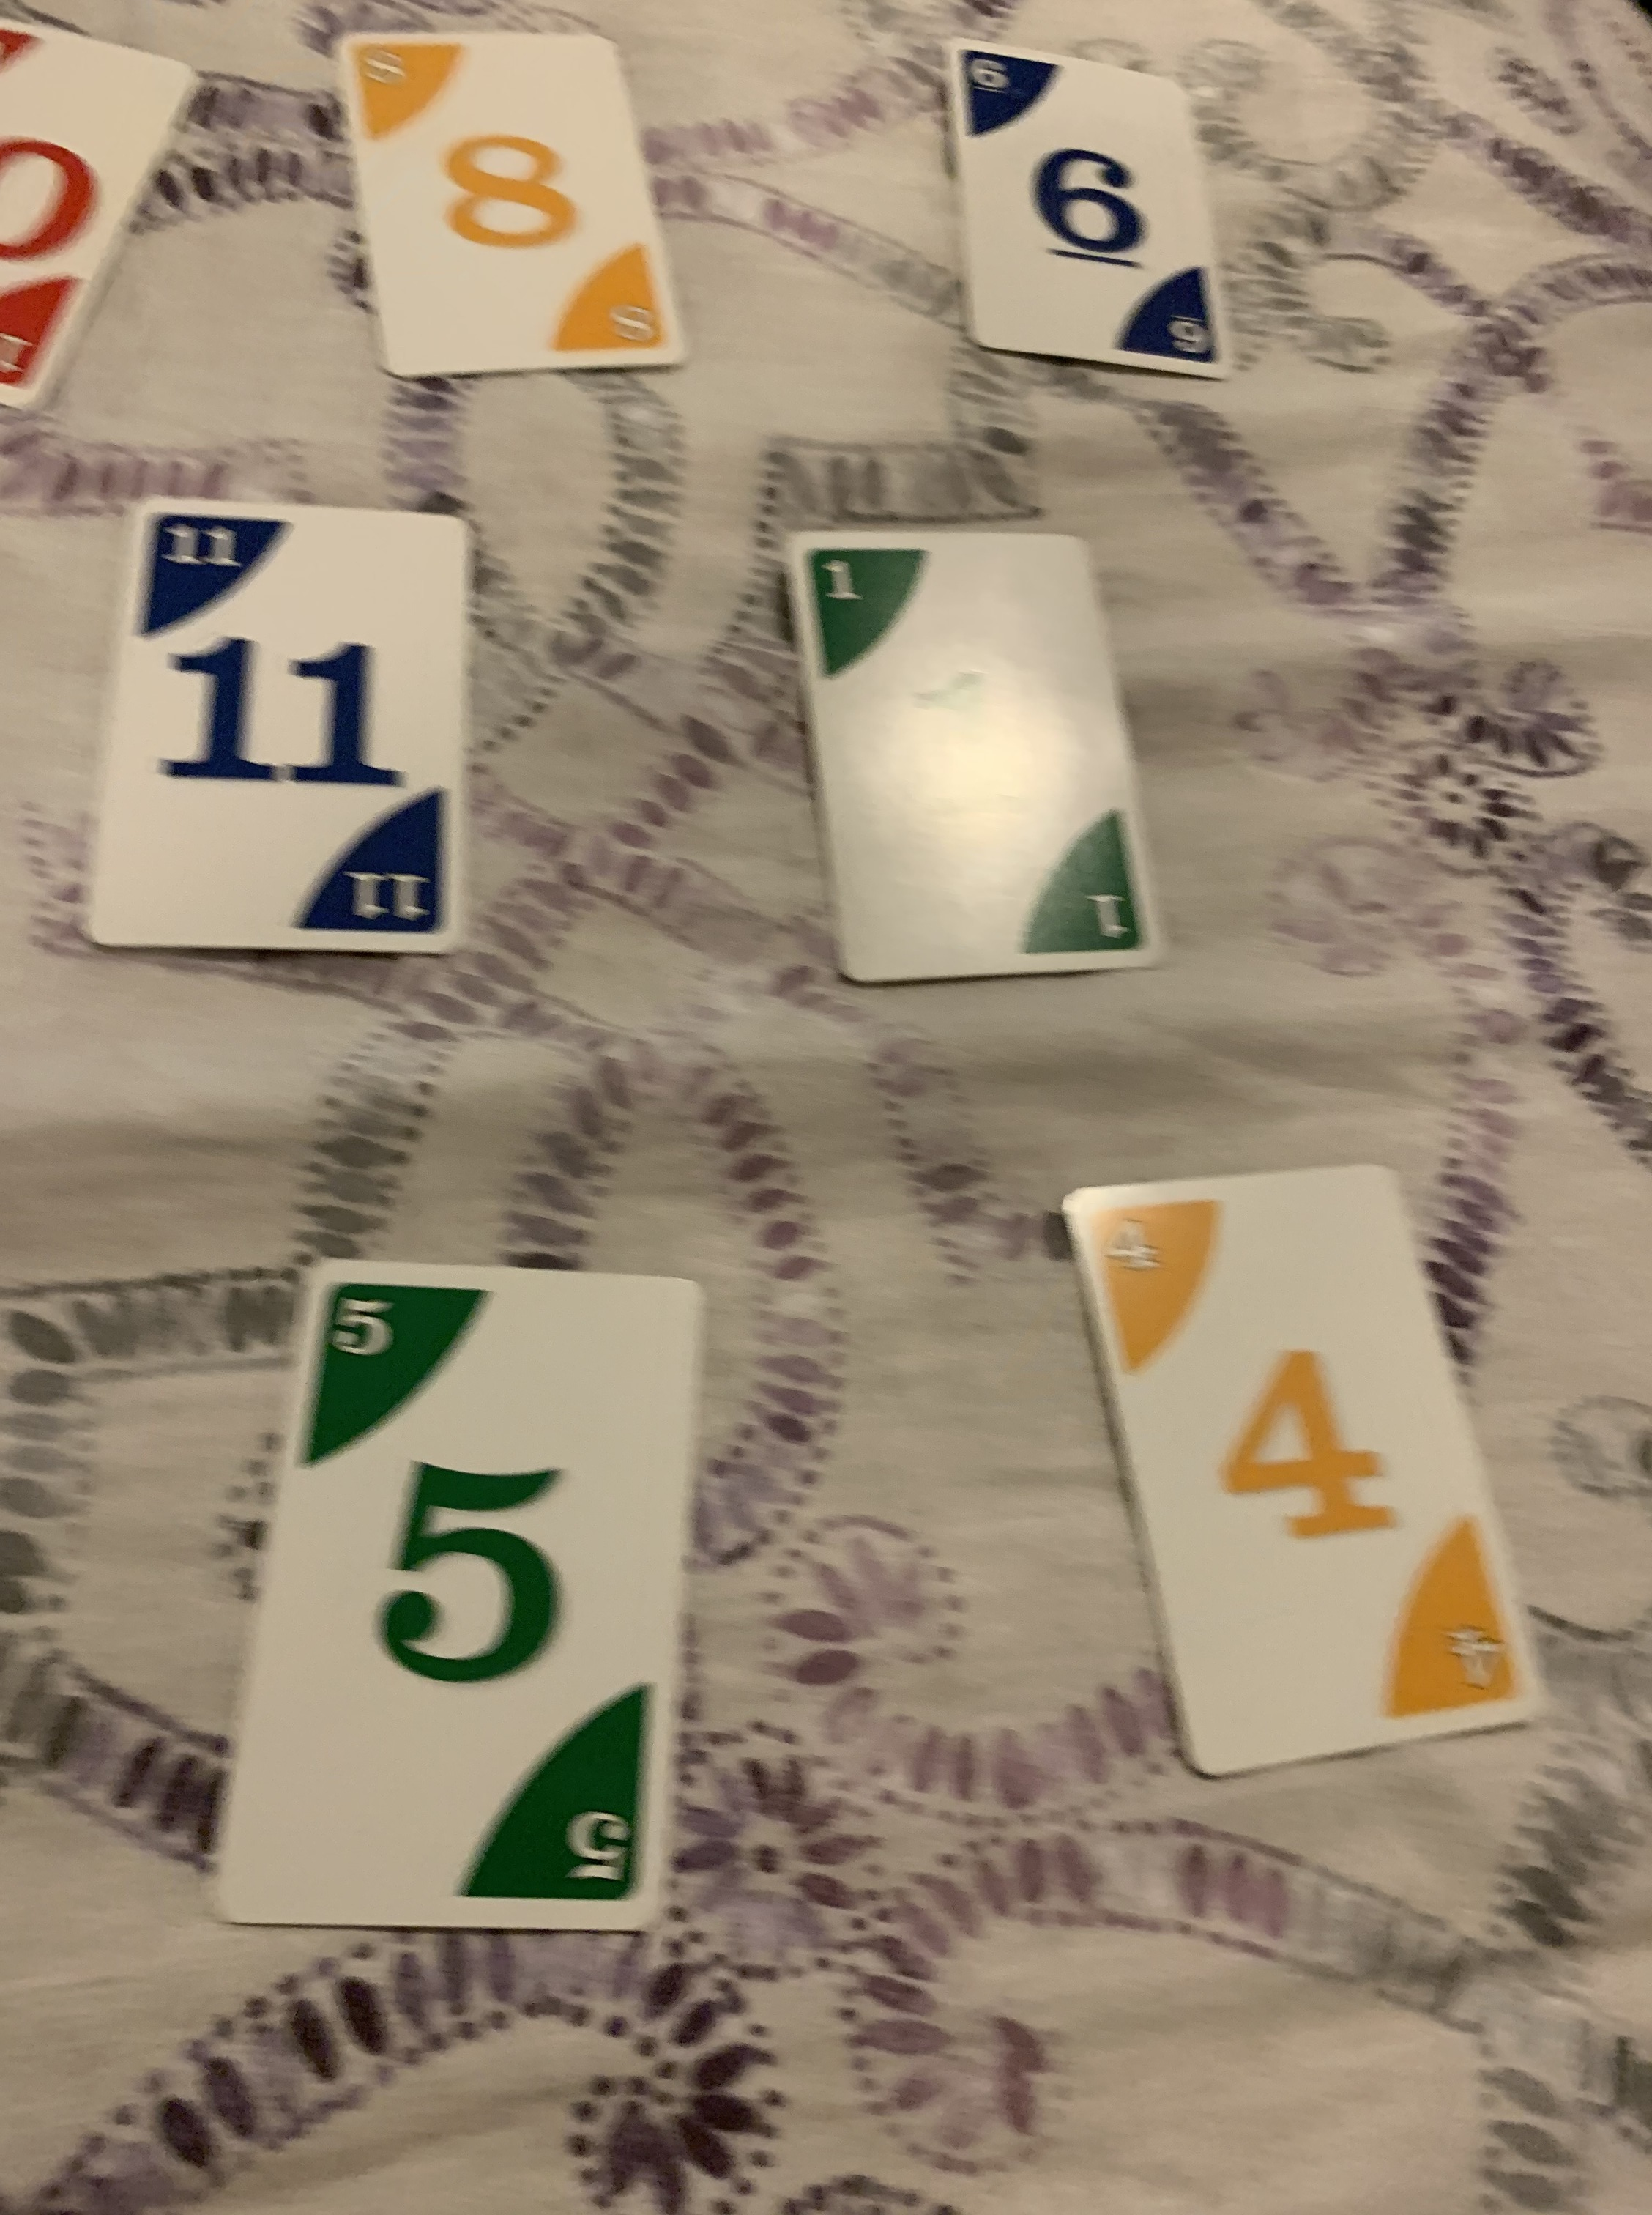eight: (328, 26, 689, 377)
eleven: (80, 495, 481, 965)
five: (215, 1260, 708, 1939)
four: (1053, 1163, 1543, 1779)
one: (770, 516, 1168, 981)
six: (946, 35, 1234, 378)
